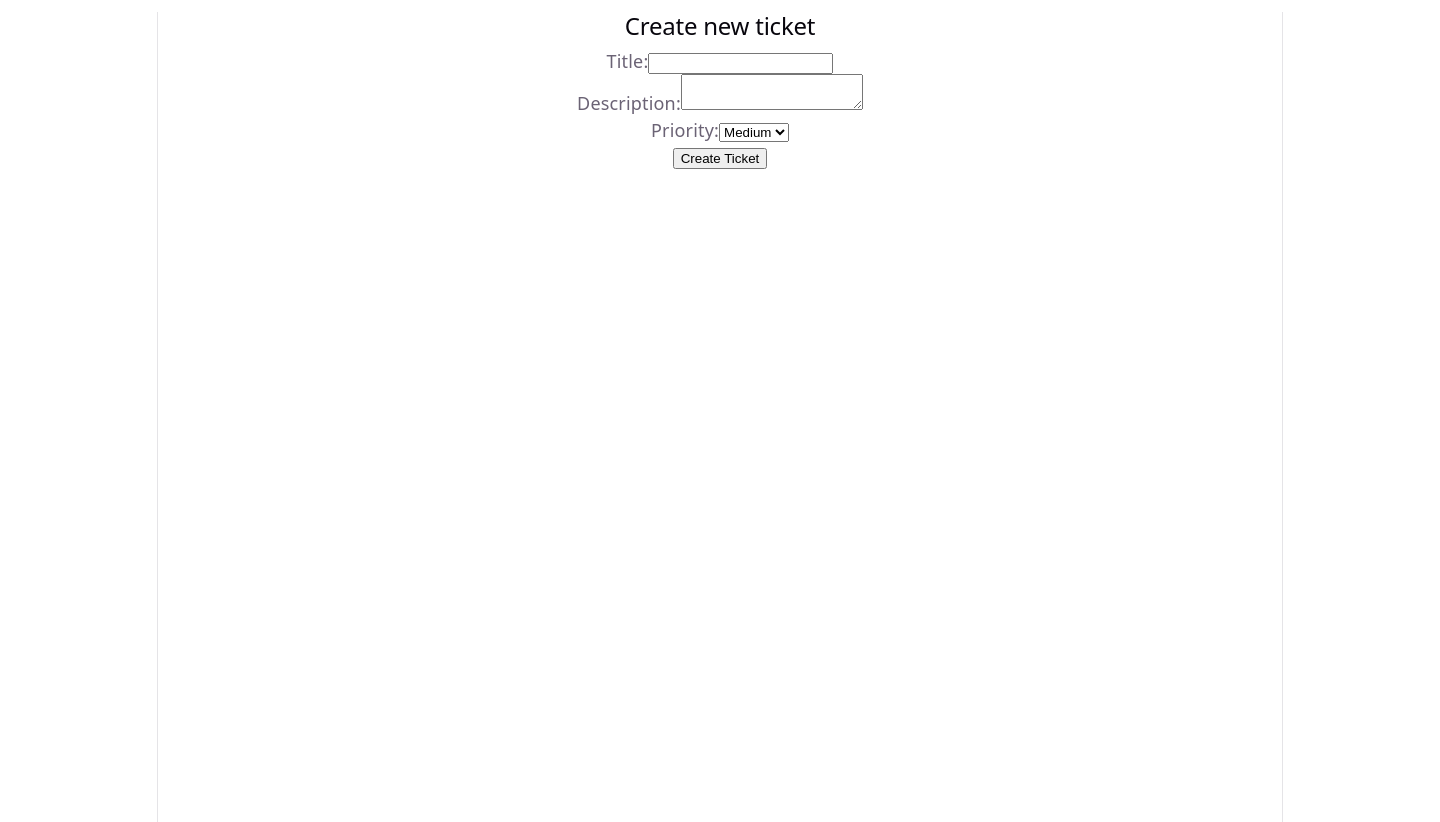
Scenario: CreateTicketPage › shows a validation error when title is too short
This screenshot has width=1440, height=822.
Type "ab" into the field labelled "Title:" at (741,64), box [648,53,833,74]
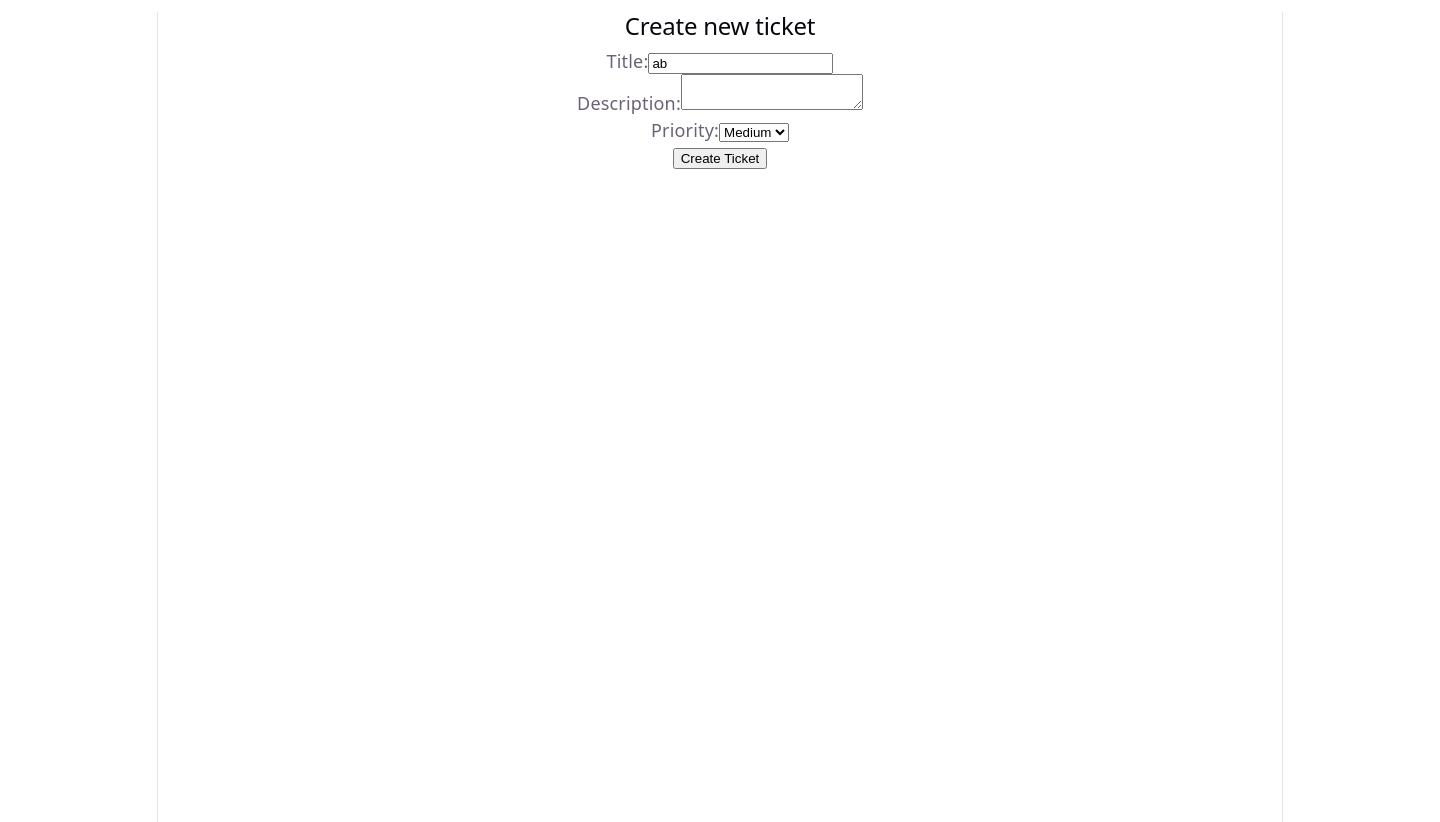
Click the button "Create Ticket" at (720,158), box [673,148,767,169]
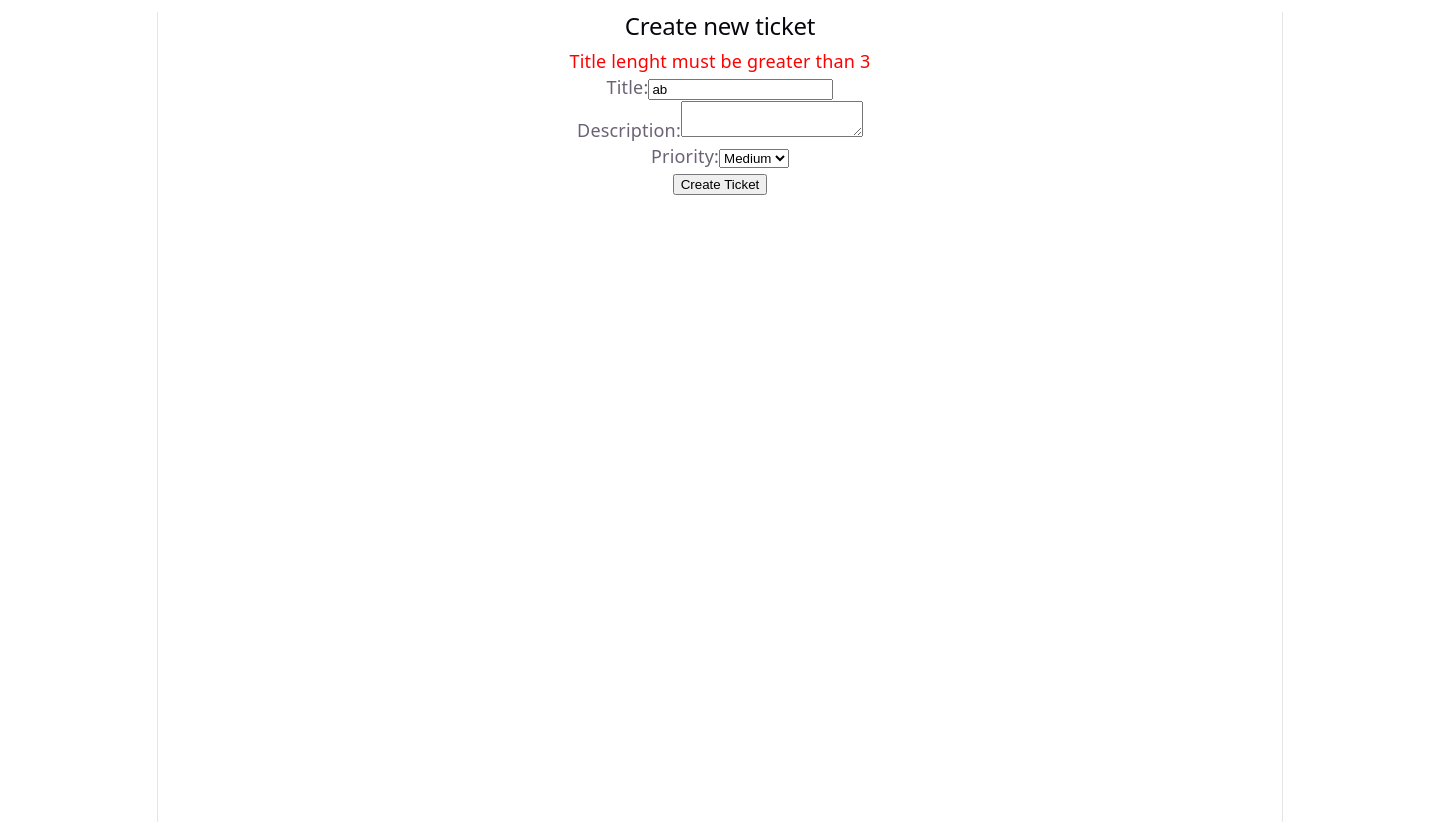
Check: the text "Title lenght must be greater than 3" is shown, box [570,49,870,73]
